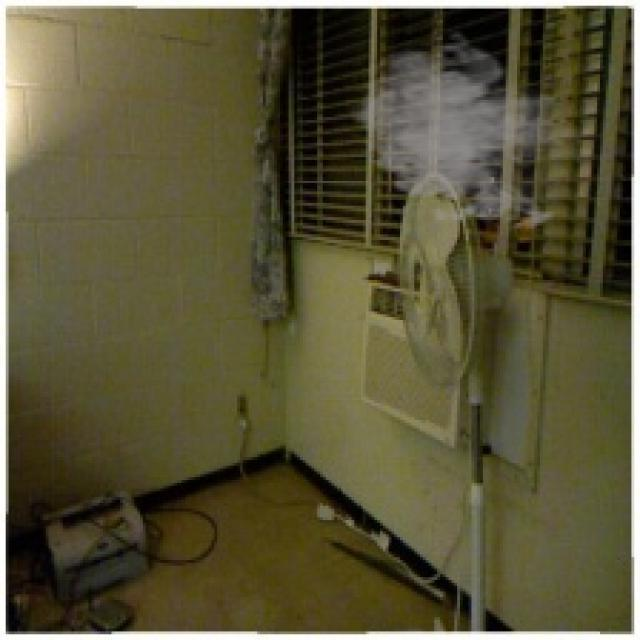Smoke: (346, 28, 588, 235)
